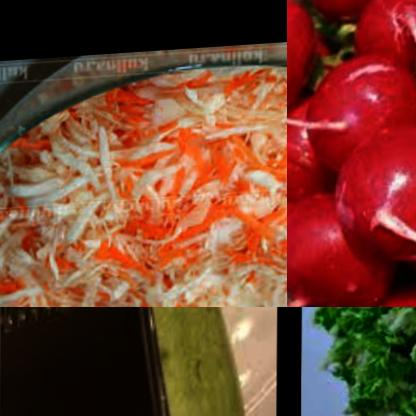cabbage: (28, 125, 120, 246), (235, 79, 287, 252), (159, 239, 287, 307), (140, 72, 233, 143), (0, 248, 103, 307)
carrot: (176, 203, 230, 248), (88, 242, 143, 281), (212, 250, 287, 276), (118, 219, 172, 255), (188, 146, 231, 190), (111, 92, 148, 132), (240, 216, 282, 250), (269, 146, 287, 189), (0, 275, 25, 304), (131, 265, 156, 291)
rediska: (287, 0, 416, 307)
salad: (306, 307, 416, 416)
vegetable marrow: (61, 307, 228, 416)
